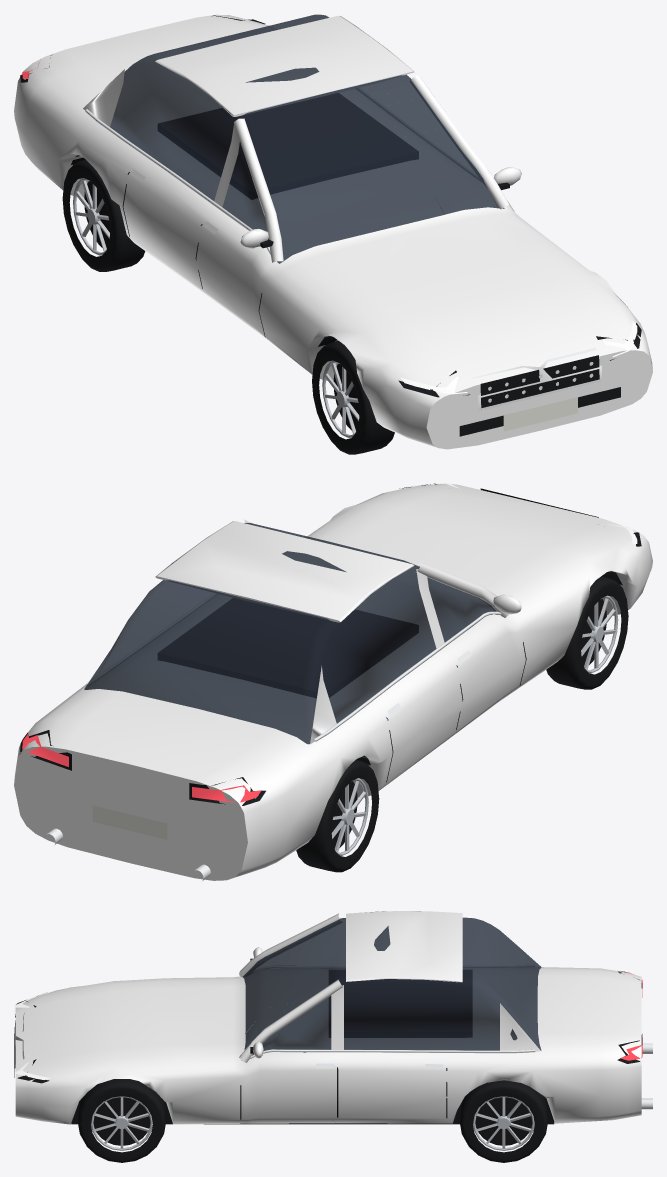
Rendered from mercedes_e_w214.lod.glb.
The picture shows the model from 3 angles, top to bottom: view 1: azimuth 30°, elevation 25°; view 2: azimuth 150°, elevation 25°; view 3: azimuth 270°, elevation 25°; orthographic projection. The views are drawn at different scales.
Parts seen in each view (by area): view 1: body_paint, body_glass, body_trim, tire (×2), door_glass, body_chrome, rim (×2), headlights; view 2: body_paint, body_glass, body_trim, tire (×2), rim (×2), body_chrome, taillights; view 3: body_paint, body_glass, body_trim, door_paint, tire (×2), door_glass, rim_back (×2), rim (×2), body_chrome.
Boxes of the visible parts, x1,y1,x2,y2 form: body_paint: (14,14,652,449); body_glass: (110,14,453,263); body_trim: (20,15,641,436); tire (×2): (62,159,394,454); door_glass: (373,88,504,214); body_chrome: (85,88,601,411); rim (×2): (73,178,359,438); headlights: (400,321,637,394); body_paint: (14,484,652,880); body_glass: (84,523,496,744); body_trim: (20,483,641,839); tire (×2): (296,576,628,872); rim (×2): (331,595,618,856); body_chrome: (47,593,501,880); taillights: (22,733,261,802); body_paint: (15,911,641,1124); body_glass: (242,917,541,1050); body_trim: (14,958,642,1124); door_paint: (242,983,341,1123); tire (×2): (77,1079,547,1162); door_glass: (241,968,332,1060); rim_back (×2): (93,1097,532,1145); rim (×2): (91,1096,534,1150); body_chrome: (15,965,652,1109).
Bounding box in the file's own units: 1.97 × 1.5 × 5.05.
